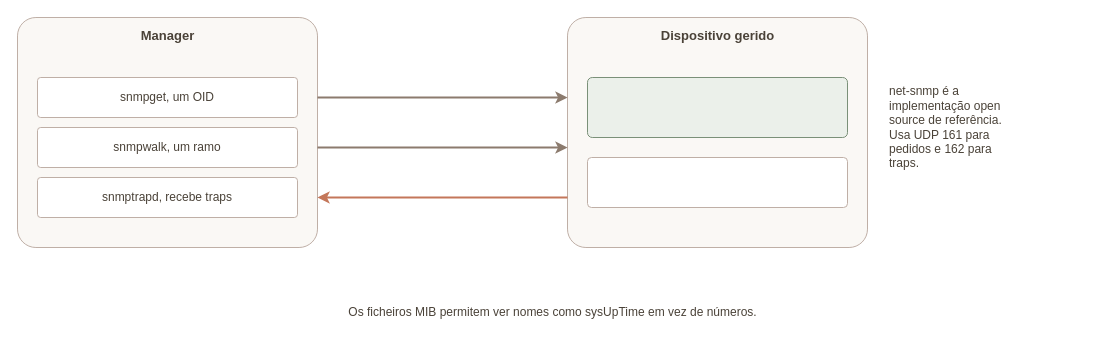
Some shapes in this 1105 by 355 pixel diagram are drawn without their labels. The shapes that lost their labels are listed below. From the top down, each one's centre as x and y in pixels, then its label:
At (717,107): "snmpd, o agente lê e expõe a MIB".
At (717,182): "MIB do sistema".
